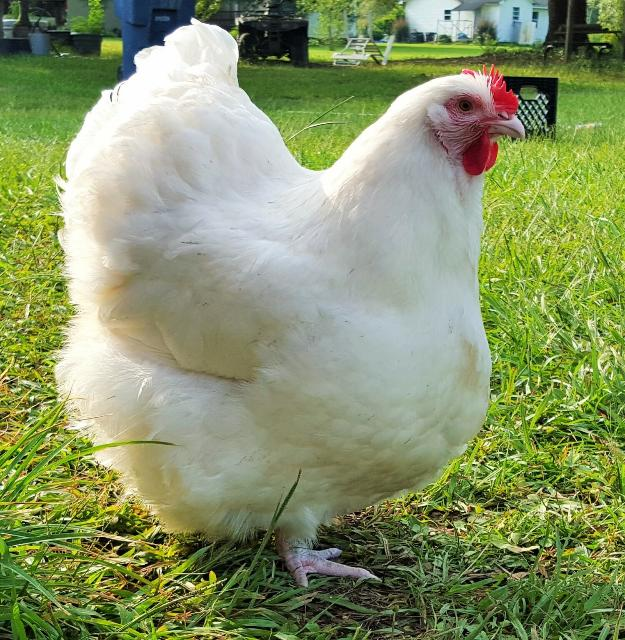Chicken: (56, 16, 528, 588)
